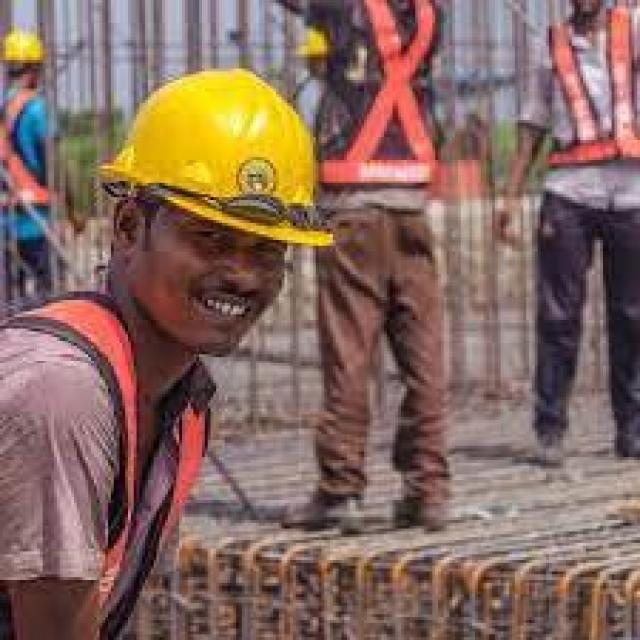Reflective-Jacket: (3, 280, 168, 640), (520, 0, 640, 214), (0, 83, 68, 223)
Safety-Helmet: (83, 63, 347, 254), (0, 23, 54, 80)
